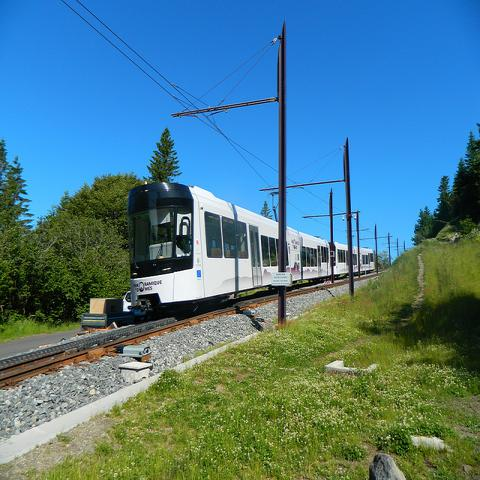car: (122, 291, 146, 317)
